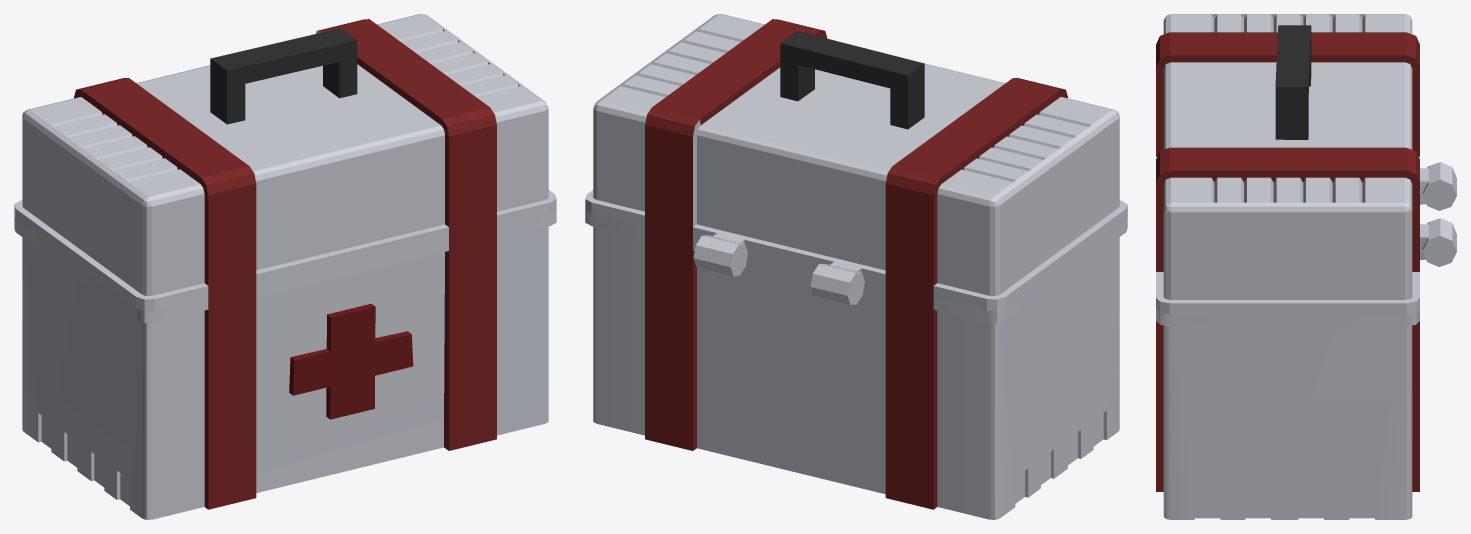
Rendered from aptechka222.fbx.
The picture shows the model from 3 angles, left to right: view 1: azimuth 30°, elevation 25°; view 2: azimuth 150°, elevation 25°; view 3: azimuth 270°, elevation 25°; orthographic projection.
Visible parts, largest first — view 1: polySurface1, polySurface2; view 2: polySurface1, polySurface2; view 3: polySurface2, polySurface1.
Part boxes in pixels (x1,y1,x2,y2): polySurface1: [14, 211, 556, 519]; polySurface2: [14, 14, 556, 310]; polySurface1: [585, 211, 1127, 519]; polySurface2: [585, 14, 1127, 310]; polySurface2: [1156, 14, 1428, 314]; polySurface1: [1156, 162, 1456, 519].
Bounding box in the file's own units: 6.27 × 5.34 × 3.97.
